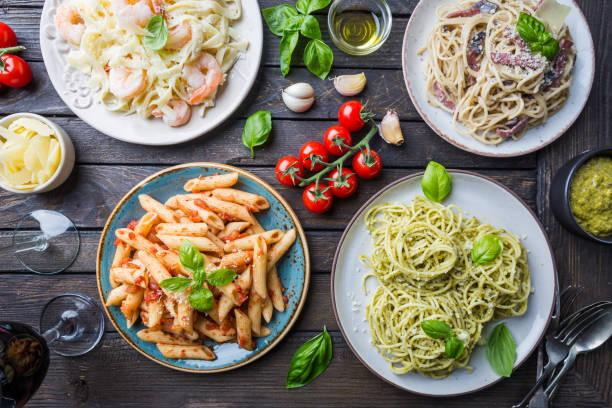Braised Crucian Carp: (328, 170, 548, 398), (95, 163, 303, 373), (40, 2, 259, 147), (400, 1, 594, 160)
